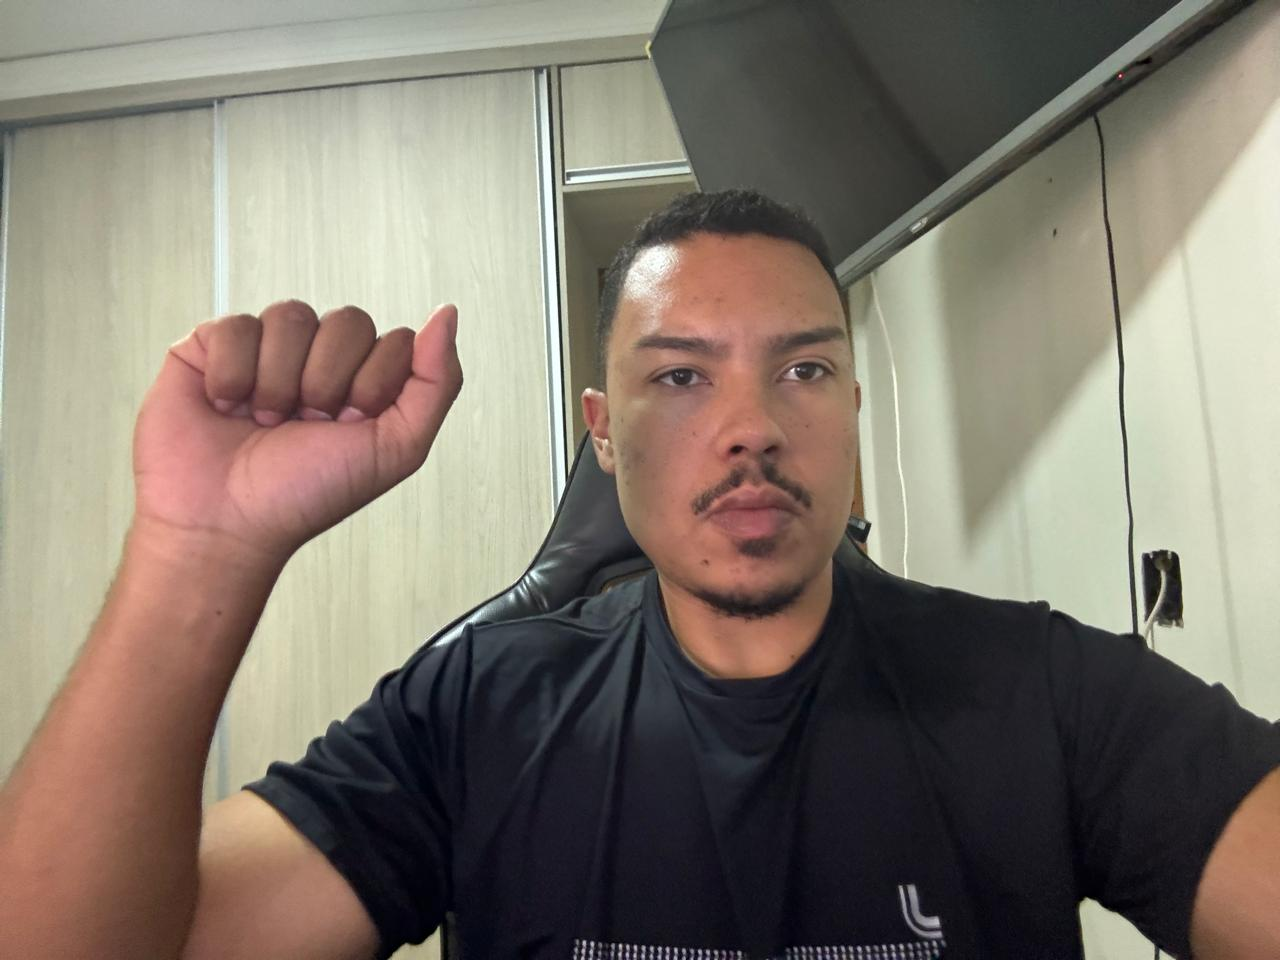a: (129, 298, 471, 549)
